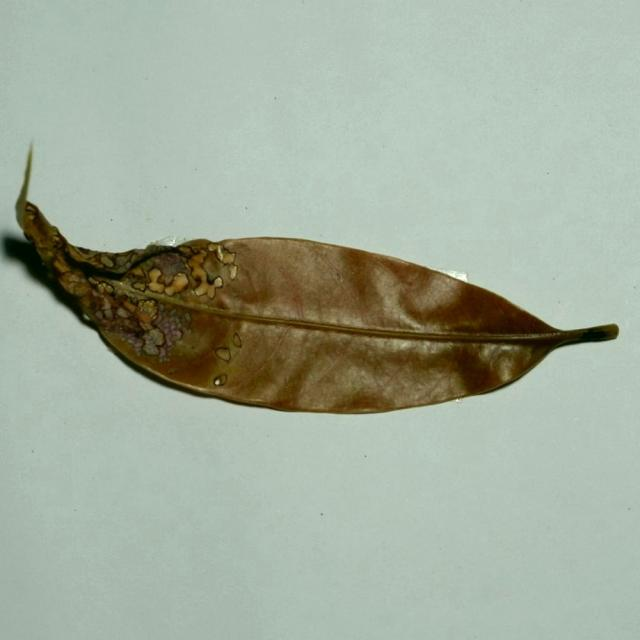Anthracnose: (129, 273, 192, 298), (58, 270, 88, 295), (147, 328, 165, 347), (214, 346, 232, 363), (52, 257, 69, 273), (122, 298, 138, 313), (96, 281, 113, 294), (221, 251, 236, 265), (40, 249, 55, 262), (131, 266, 145, 278), (213, 374, 227, 386), (232, 332, 242, 348), (101, 255, 114, 267), (228, 264, 237, 280), (102, 307, 114, 319), (132, 281, 146, 291), (178, 247, 191, 256), (51, 235, 61, 245), (207, 243, 218, 252), (136, 330, 147, 339), (167, 368, 178, 375), (27, 214, 35, 222)
Mango: (15, 145, 621, 417)
